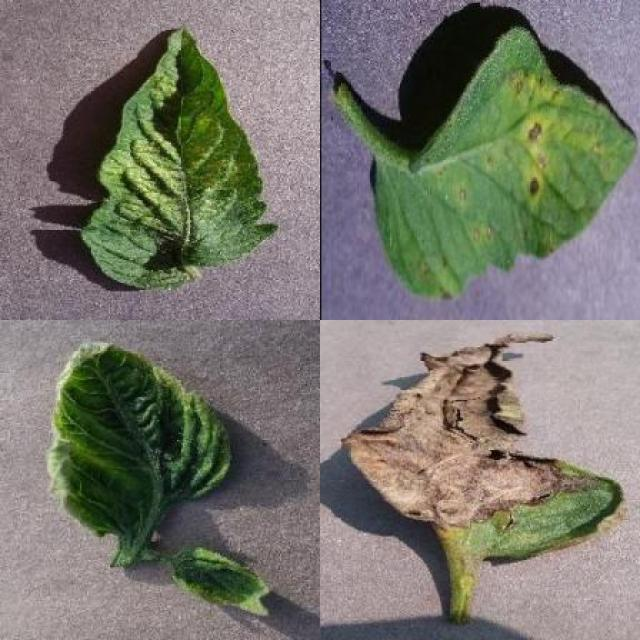Late Blight: (340, 332, 630, 567)
Septoria: (374, 30, 639, 300)
Spider Mites: (82, 28, 277, 291)
Yellow Leaf Curl Virus: (45, 339, 232, 534), (171, 543, 269, 618)
